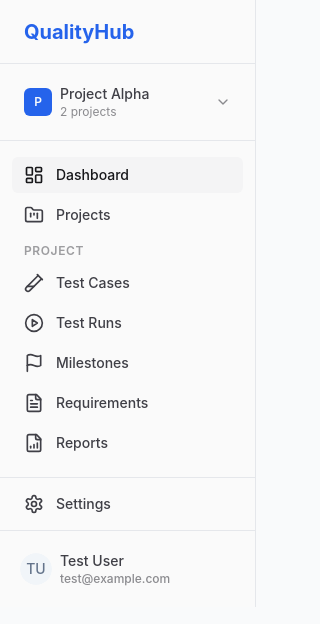
Test: Sidebar › Project Switcher › should show project dropdown when clicked
# Find and click the project switcher button
Step 1. Click the button "P Project Alpha 2 projects" → point(128, 102), box [12, 76, 243, 128]
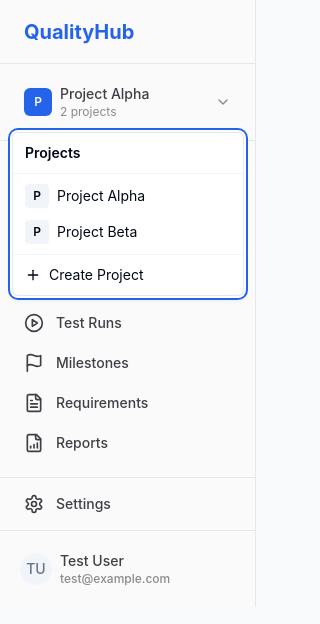
Expected: the text "Project Beta" is shown, [57, 222, 137, 242]
Expected: the menu is shown, [12, 132, 244, 296]
